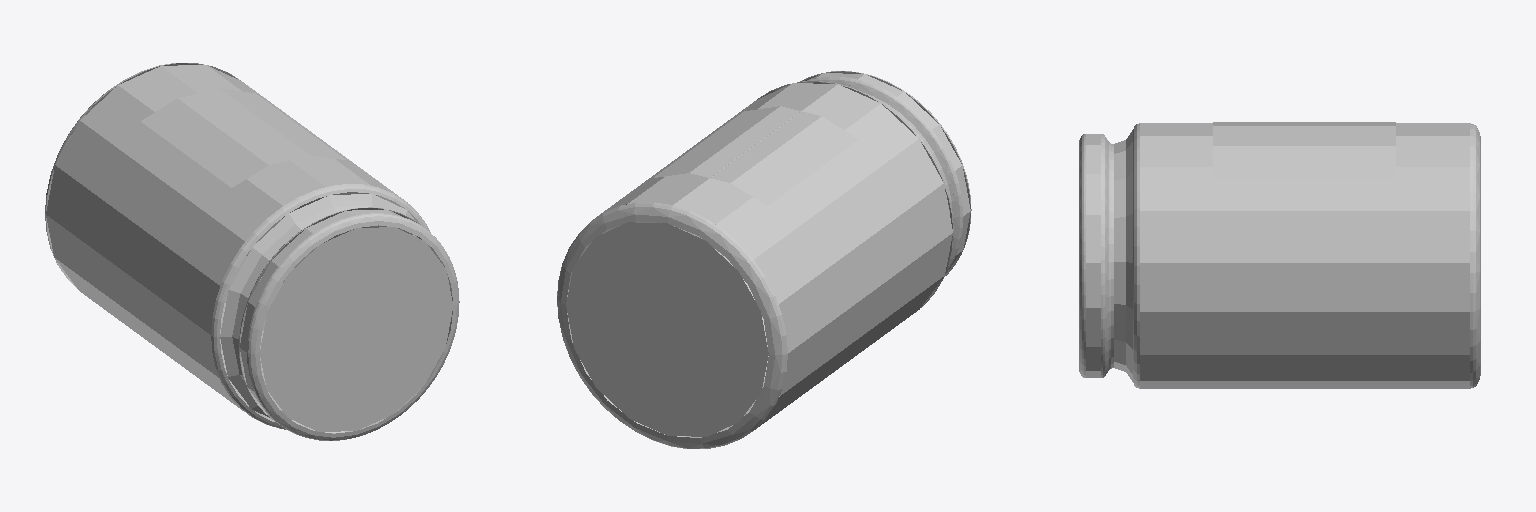
3 views of the same model, side by side, from view 1: azimuth 30°, elevation 25°; view 2: azimuth 150°, elevation 25°; view 3: azimuth 270°, elevation 25° (orthographic).
Visible parts, largest first — view 1: ShapeIndexedFaceSet.005_ShapeIndexedFaceSet, ShapeIndexedFaceSet.001_ShapeIndexedFaceSet.002, ShapeIndexedFaceSet.002_ShapeIndexedFaceSet.003, ShapeIndexedFaceSet_ShapeIndexedFaceSet.001, ShapeIndexedFaceSet.004_ShapeIndexedFaceSet.005; view 2: ShapeIndexedFaceSet.005_ShapeIndexedFaceSet, ShapeIndexedFaceSet.003_ShapeIndexedFaceSet.004, ShapeIndexedFaceSet.004_ShapeIndexedFaceSet.005, ShapeIndexedFaceSet_ShapeIndexedFaceSet.001, ShapeIndexedFaceSet.002_ShapeIndexedFaceSet.003; view 3: ShapeIndexedFaceSet.005_ShapeIndexedFaceSet, ShapeIndexedFaceSet.002_ShapeIndexedFaceSet.003, ShapeIndexedFaceSet_ShapeIndexedFaceSet.001, ShapeIndexedFaceSet.004_ShapeIndexedFaceSet.005.
Boxes of the visible parts, x1,y1,x2,y2 form: ShapeIndexedFaceSet.005_ShapeIndexedFaceSet: [46, 65, 420, 421]; ShapeIndexedFaceSet.001_ShapeIndexedFaceSet.002: [260, 227, 452, 431]; ShapeIndexedFaceSet.002_ShapeIndexedFaceSet.003: [211, 184, 459, 440]; ShapeIndexedFaceSet_ShapeIndexedFaceSet.001: [141, 88, 345, 187]; ShapeIndexedFaceSet.004_ShapeIndexedFaceSet.005: [45, 63, 245, 287]; ShapeIndexedFaceSet.005_ShapeIndexedFaceSet: [567, 83, 952, 437]; ShapeIndexedFaceSet.003_ShapeIndexedFaceSet.004: [566, 222, 768, 436]; ShapeIndexedFaceSet.004_ShapeIndexedFaceSet.005: [557, 202, 787, 448]; ShapeIndexedFaceSet_ShapeIndexedFaceSet.001: [654, 106, 858, 205]; ShapeIndexedFaceSet.002_ShapeIndexedFaceSet.003: [757, 71, 971, 307]; ShapeIndexedFaceSet.005_ShapeIndexedFaceSet: [1140, 123, 1469, 388]; ShapeIndexedFaceSet.002_ShapeIndexedFaceSet.003: [1079, 123, 1139, 388]; ShapeIndexedFaceSet_ShapeIndexedFaceSet.001: [1213, 122, 1395, 177]; ShapeIndexedFaceSet.004_ShapeIndexedFaceSet.005: [1470, 123, 1480, 388].
Bounding box in the file's own units: 16.51 × 16.51 × 25.